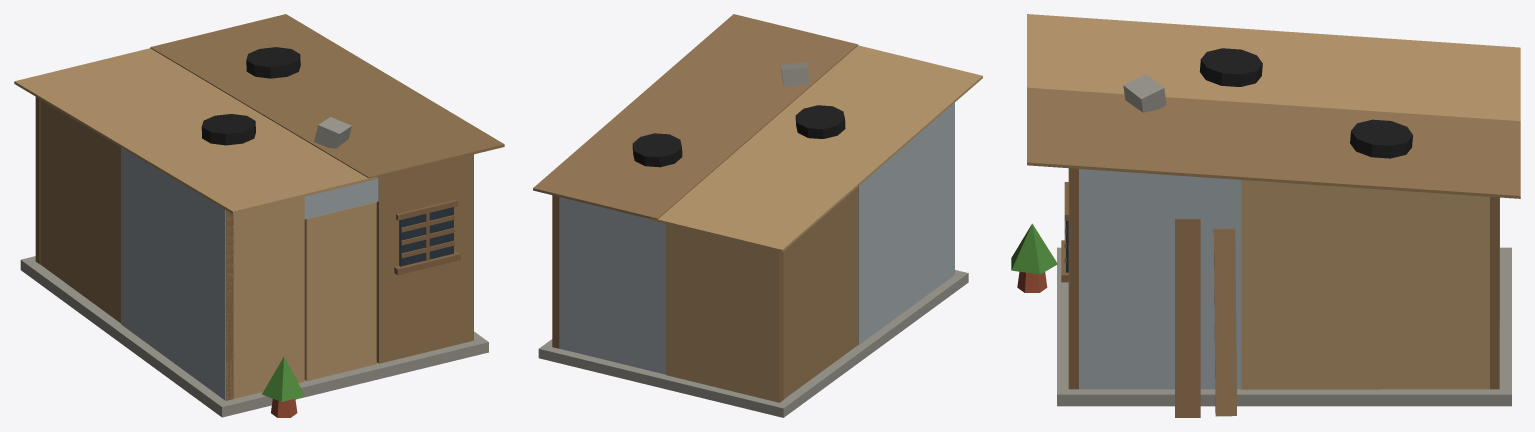
File: BAY_I_TinShack_P.glb
The picture shows the model from 3 angles, left to right: view 1: azimuth 30°, elevation 25°; view 2: azimuth 150°, elevation 25°; view 3: azimuth 270°, elevation 25°; orthographic projection. The views are drawn at different scales.
Visible parts, largest first — view 1: BAY_I_TinShack_P; view 2: BAY_I_TinShack_P; view 3: BAY_I_TinShack_P.
Part boxes in pixels (bbox=[...]): BAY_I_TinShack_P: bbox=[14, 14, 504, 417]; BAY_I_TinShack_P: bbox=[533, 14, 982, 417]; BAY_I_TinShack_P: bbox=[1011, 14, 1520, 417].
Size of the model in its own units: 3.57 by 2.68 by 4.74.
Materials: 1 (1 with a texture image).
